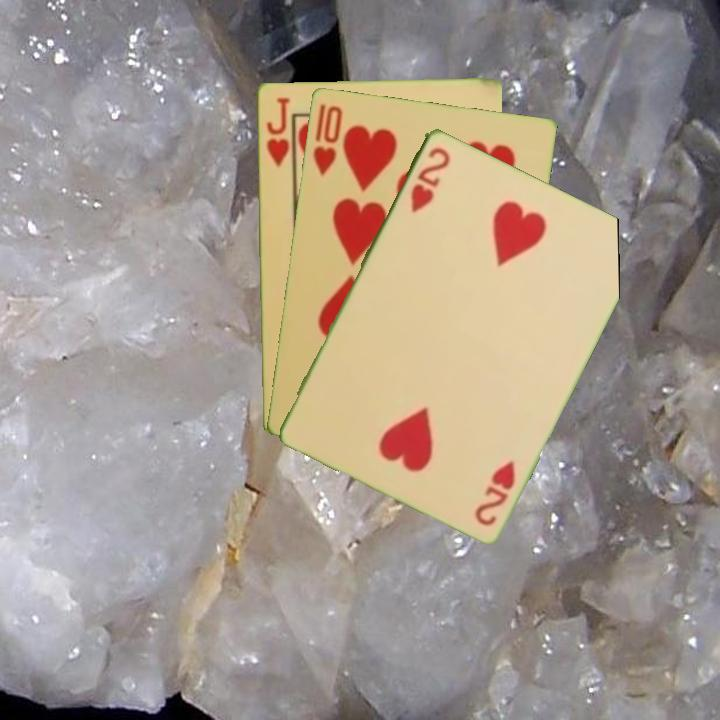10h: (309, 101, 345, 179)
2h: (406, 143, 453, 216), (471, 457, 518, 528)
Jh: (262, 93, 292, 170)
